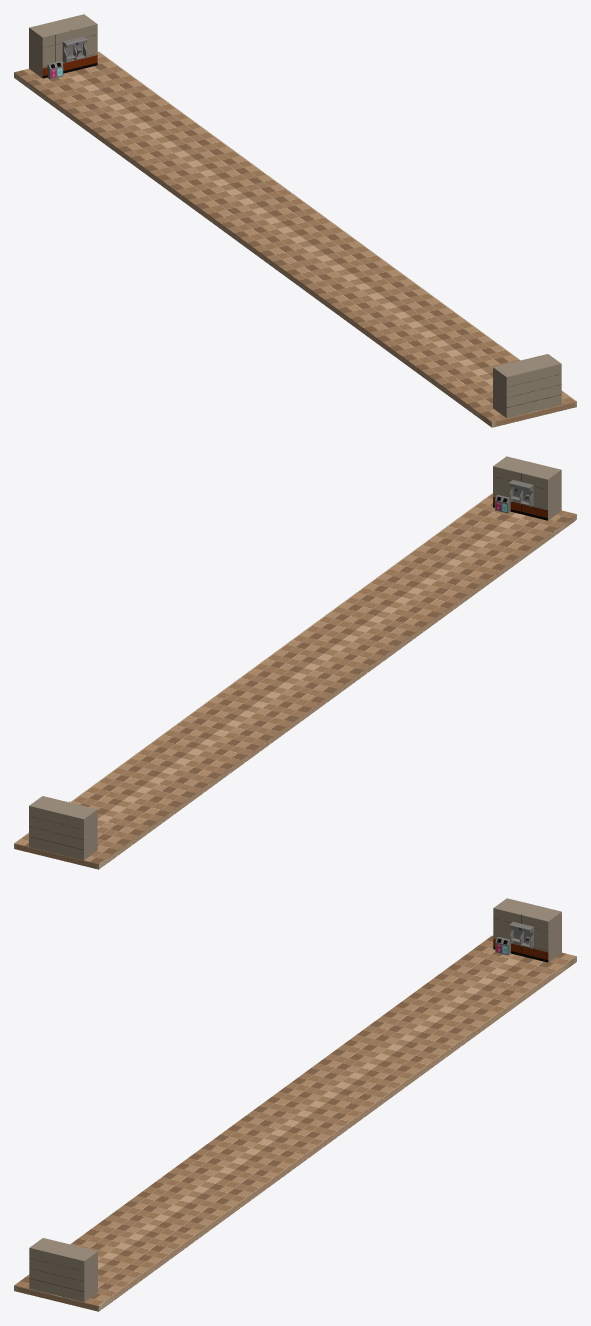
Rendered from wall.fbx.
3 views of the same model, one above another, from view 1: azimuth 30°, elevation 25°; view 2: azimuth 150°, elevation 25°; view 3: azimuth 330°, elevation 25° (orthographic).
Visible parts, largest first — view 1: 立方體.013, 立方體.018, 立方體.008; view 2: 立方體.013, 立方體.008, 立方體.018; view 3: 立方體.013, 立方體.018, 立方體.008.
Part boxes in pixels (x1=…): 立方體.013: x1=14, y1=51, x2=576, y2=427; 立方體.018: x1=493, y1=354, x2=561, y2=418; 立方體.008: x1=29, y1=14, x2=97, y2=78; 立方體.013: x1=14, y1=493, x2=576, y2=869; 立方體.008: x1=29, y1=796, x2=97, y2=860; 立方體.018: x1=493, y1=456, x2=561, y2=520; 立方體.013: x1=14, y1=935, x2=576, y2=1311; 立方體.018: x1=29, y1=1238, x2=97, y2=1302; 立方體.008: x1=493, y1=898, x2=561, y2=962.
Size of the model in its own units: 3200 by 1724 by 31200.
Materials: 25 (9 with a texture image).
